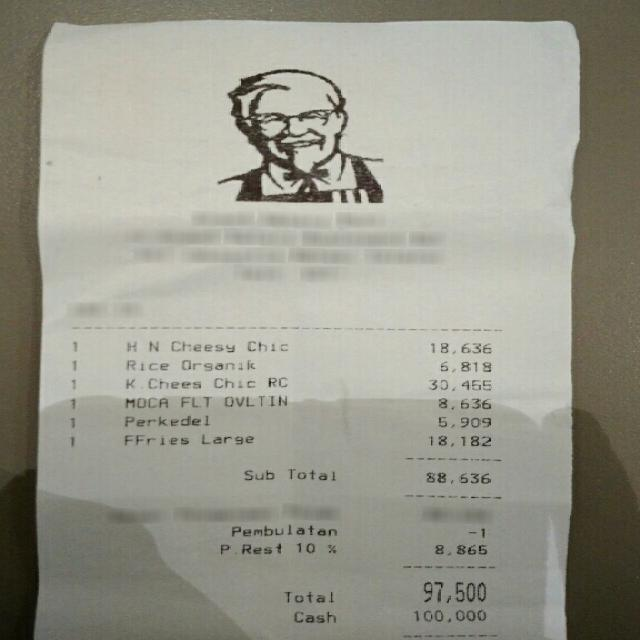kertas: (36, 17, 580, 640)
